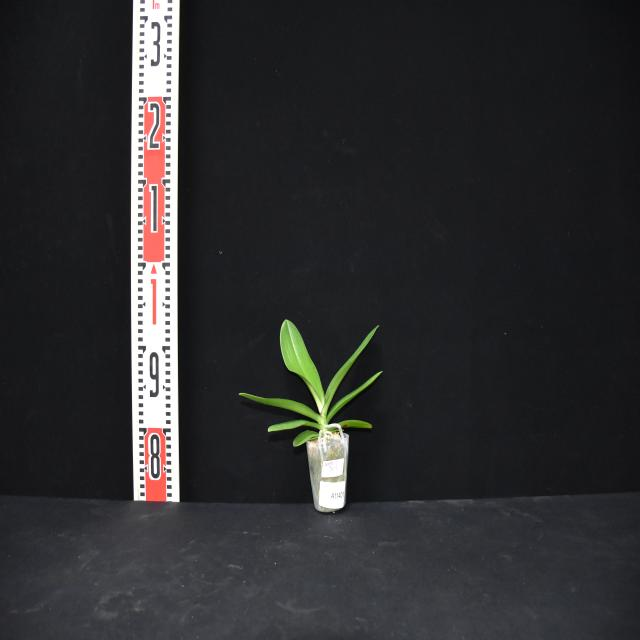leaf: (321, 325, 379, 419), (280, 320, 324, 411), (326, 372, 382, 424), (240, 393, 321, 422), (325, 419, 372, 432), (268, 421, 322, 431), (293, 432, 320, 447)
